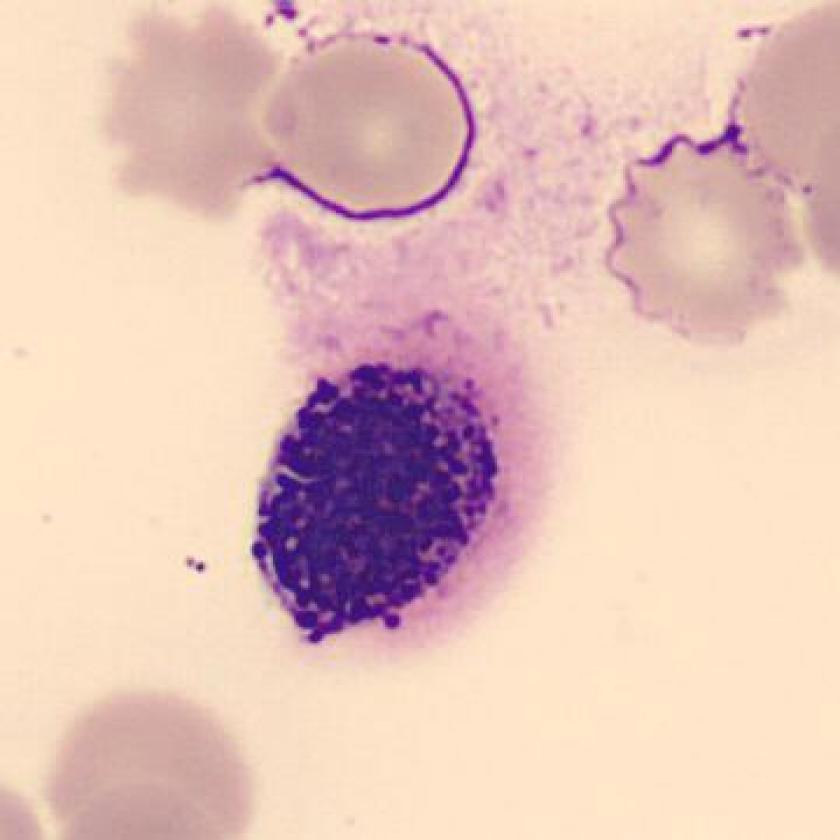basophil: (234, 341, 510, 644)
